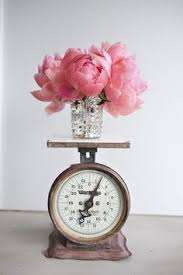Industrial Scale: (45, 139, 133, 260)
